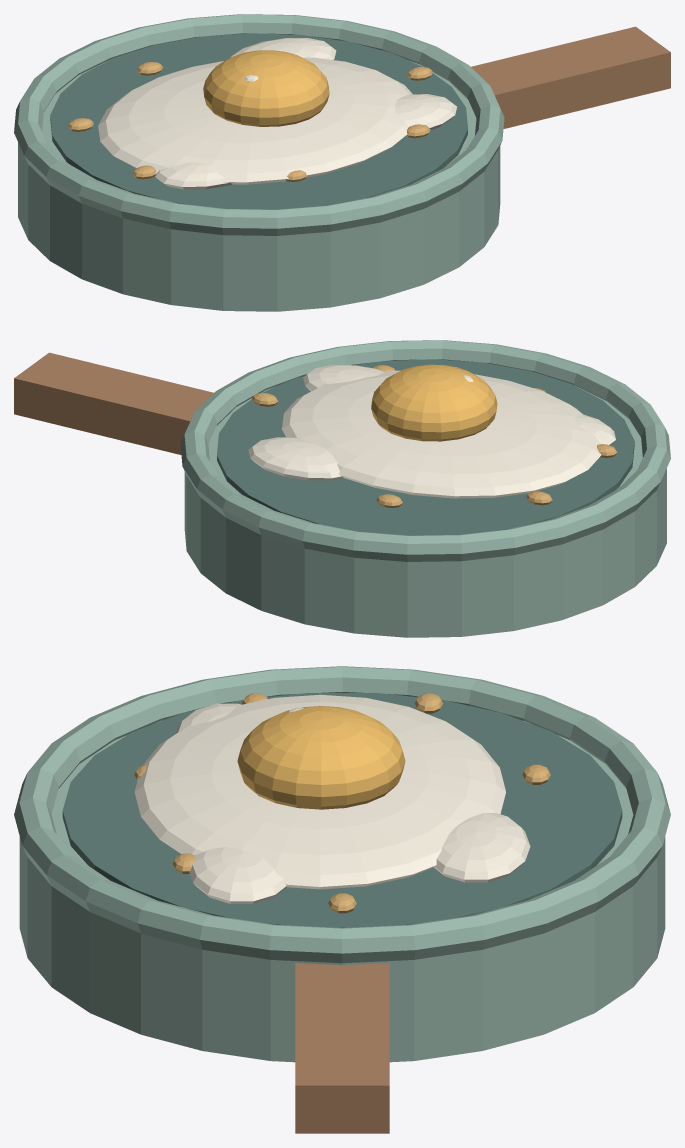
Rendered from fried_egg_pan.glb.
3 views of the same model, one above another, from view 1: azimuth 30°, elevation 25°; view 2: azimuth 150°, elevation 25°; view 3: azimuth 270°, elevation 25° (orthographic). The views are drawn at different scales.
Parts seen in each view (by area): view 1: rounded_egg_pan, bright_pan_edge, nonstick_pan_well, irregular_fried_egg_base, soft_wooden_handle, golden_yolk_dome, fried_egg_edge_lobe_2, fried_egg_edge_lobe_0, fried_egg_edge_lobe_1; view 2: rounded_egg_pan, bright_pan_edge, irregular_fried_egg_base, nonstick_pan_well, soft_wooden_handle, golden_yolk_dome, fried_egg_edge_lobe_1, fried_egg_edge_lobe_2, fried_egg_edge_lobe_0; view 3: rounded_egg_pan, bright_pan_edge, nonstick_pan_well, irregular_fried_egg_base, soft_wooden_handle, golden_yolk_dome, fried_egg_edge_lobe_1, fried_egg_edge_lobe_2, fried_egg_edge_lobe_0.
Boxes of the visible parts, bbox=[...] form: rounded_egg_pan: bbox=[18, 59, 500, 311]; bright_pan_edge: bbox=[14, 14, 504, 235]; nonstick_pan_well: bbox=[50, 33, 467, 209]; irregular_fried_egg_base: bbox=[98, 57, 412, 184]; soft_wooden_handle: bbox=[471, 26, 670, 128]; golden_yolk_dome: bbox=[203, 50, 329, 126]; fried_egg_edge_lobe_2: bbox=[395, 94, 456, 135]; fried_egg_edge_lobe_0: bbox=[155, 162, 231, 189]; fried_egg_edge_lobe_1: bbox=[230, 38, 336, 59]; rounded_egg_pan: bbox=[184, 385, 666, 637]; bright_pan_edge: bbox=[180, 340, 670, 561]; irregular_fried_egg_base: bbox=[281, 370, 601, 498]; nonstick_pan_well: bbox=[217, 359, 634, 535]; soft_wooden_handle: bbox=[14, 352, 213, 454]; golden_yolk_dome: bbox=[371, 364, 497, 441]; fried_egg_edge_lobe_1: bbox=[248, 437, 343, 480]; fried_egg_edge_lobe_2: bbox=[303, 365, 384, 391]; fried_egg_edge_lobe_0: bbox=[575, 414, 615, 444]; rounded_egg_pan: bbox=[19, 721, 665, 1062]; bright_pan_edge: bbox=[14, 666, 670, 963]; nonstick_pan_well: bbox=[62, 693, 622, 927]; irregular_fried_egg_base: bbox=[134, 694, 505, 889]; soft_wooden_handle: bbox=[295, 963, 389, 1133]; golden_yolk_dome: bbox=[237, 706, 405, 809]; fried_egg_edge_lobe_1: bbox=[434, 813, 530, 882]; fried_egg_edge_lobe_2: bbox=[189, 847, 286, 903]; fried_egg_edge_lobe_0: bbox=[175, 703, 241, 733].
Size of the model in its own units: 0.8465 by 0.208 by 0.594.
